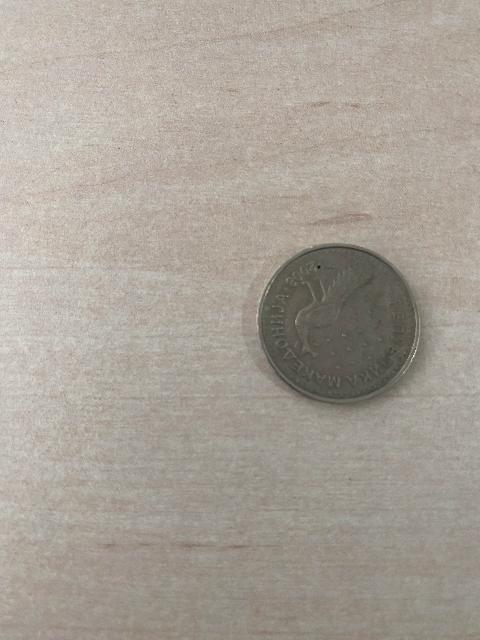10_coin: (258, 245, 419, 402)
